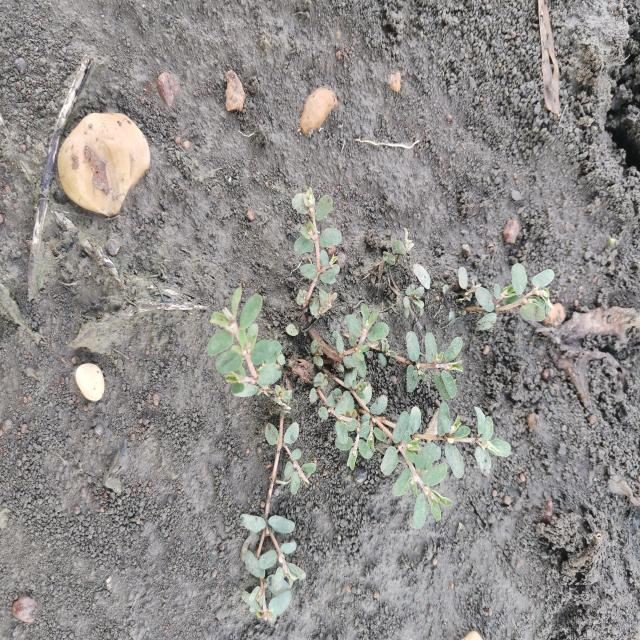SpottedSpurge: (203, 185, 556, 625)
